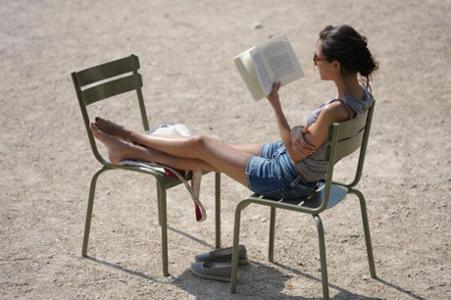person: (90, 25, 375, 202)
